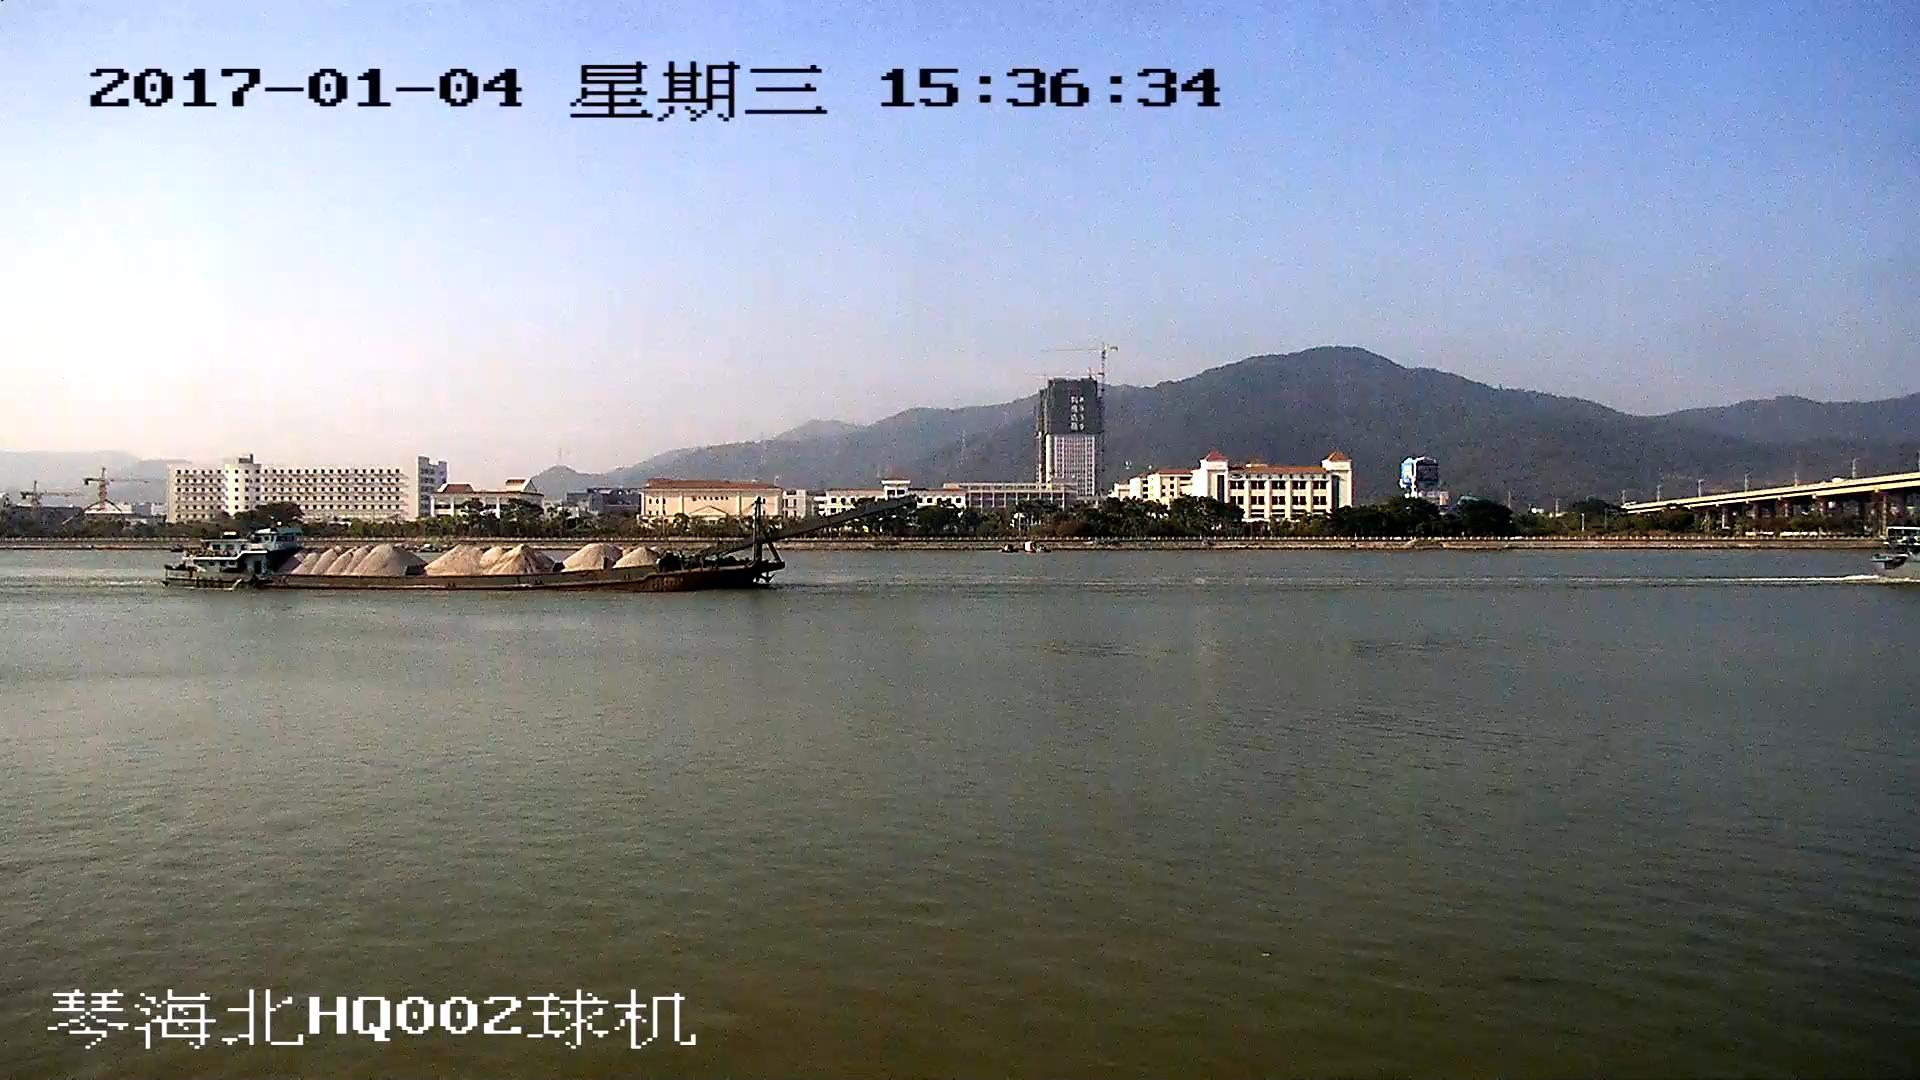Ship: (161, 498, 913, 587)
